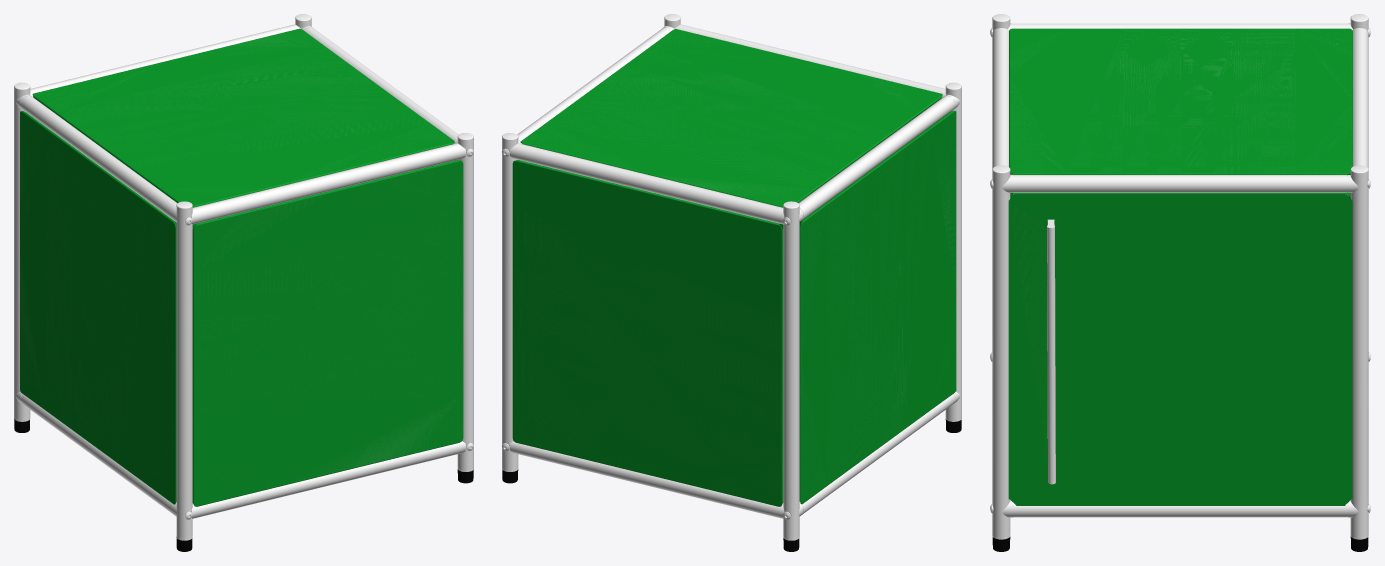
File: 40x40x40-2-4-green.glb
3 renders of one model, left to right at view 1: azimuth 30°, elevation 25°; view 2: azimuth 150°, elevation 25°; view 3: azimuth 270°, elevation 25°, orthographic. The views are drawn at different scales.
Visible parts, largest first — view 1: 直角鐵板-40x40-2 - 零件, 直角鐵板-40x40-4 - 零件, 直角鐵板-40x40-5 - 零件, 鐵管-1層-40-正常腳-32mm-5 - 零件, 消水孔鐵管-40深-2 - 零件, 鐵管-1層-40-正常腳-32mm-4 - 零件, 消水孔鐵管-40深-1 - 零件, 反-鐵管-40-354..4-18 - 零件, 鏡射鐵管-1層-40-正常腳-32mm-2 - 零件, 反-鐵管-40-354..4-15 - 零件, 鏡射消水孔鐵管-40深-2 - 零件, 反-鐵管-40-354..4-17 - 零件; view 2: object 43, 直角鐵板-40x40-4 - 零件, 直角鐵板-40x40-5 - 零件, 鏡射鐵管-1層-40-正常腳-32mm-2 - 零件, 鏡射消水孔鐵管-40深-2 - 零件, 鏡射鐵管-1層-40-正常腳-32mm-1 - 零件, 鏡射消水孔鐵管-40深-1 - 零件, 反-鐵管-40-354..4-18 - 零件, 鐵管-1層-40-正常腳-32mm-5 - 零件, 消水孔鐵管-40深-2 - 零件, 反-鐵管-40-354..4-15 - 零件, 反-鐵管-40-354..4-17 - 零件; view 3: object 25, 直角鐵板-40x40-5 - 零件, 鐵管-1層-40-正常腳-32mm-4 - 零件, 鏡射鐵管-1層-40-正常腳-32mm-1 - 零件, 反-鐵管-40-354..4-17 - 零件, 反-鐵管-40-354..4-1 - 零件, 消水孔鐵管-40深-2 - 零件, 鏡射消水孔鐵管-40深-2 - 零件, 反-鐵管-40-354..4-18 - 零件.
Boxes of the visible parts, box(x1,y1,x2,y2) form: 直角鐵板-40x40-2 - 零件: box(192, 160, 463, 506); 直角鐵板-40x40-4 - 零件: box(20, 111, 176, 504); 直角鐵板-40x40-5 - 零件: box(32, 28, 454, 207); 鐵管-1層-40-正常腳-32mm-5 - 零件: box(176, 207, 192, 539); 消水孔鐵管-40深-2 - 零件: box(191, 143, 465, 224); 鐵管-1層-40-正常腳-32mm-4 - 零件: box(457, 138, 473, 470); 消水孔鐵管-40深-1 - 零件: box(191, 441, 465, 518); 反-鐵管-40-354..4-18 - 零件: box(20, 96, 177, 219); 鏡射鐵管-1層-40-正常腳-32mm-2 - 零件: box(14, 88, 30, 420); 反-鐵管-40-354..4-15 - 零件: box(20, 394, 173, 513); 鏡射消水孔鐵管-40深-2 - 零件: box(30, 24, 300, 97); 反-鐵管-40-354..4-17 - 零件: box(304, 27, 458, 144); object 43: box(512, 160, 783, 506); 直角鐵板-40x40-4 - 零件: box(799, 110, 956, 504); 直角鐵板-40x40-5 - 零件: box(520, 29, 942, 207); 鏡射鐵管-1層-40-正常腳-32mm-2 - 零件: box(783, 206, 799, 539); 鏡射消水孔鐵管-40深-2 - 零件: box(509, 143, 784, 224); 鏡射鐵管-1層-40-正常腳-32mm-1 - 零件: box(502, 138, 518, 470); 鏡射消水孔鐵管-40深-1 - 零件: box(509, 441, 784, 518); 反-鐵管-40-354..4-18 - 零件: box(798, 96, 955, 219); 鐵管-1層-40-正常腳-32mm-5 - 零件: box(945, 88, 961, 420); 消水孔鐵管-40深-2 - 零件: box(675, 24, 945, 98); 反-鐵管-40-354..4-15 - 零件: box(799, 394, 955, 513); 反-鐵管-40-354..4-17 - 零件: box(517, 27, 671, 141); object 25: box(1008, 192, 1352, 505); 直角鐵板-40x40-5 - 零件: box(1009, 28, 1352, 174); 鐵管-1層-40-正常腳-32mm-4 - 零件: box(992, 171, 1010, 537); 鏡射鐵管-1層-40-正常腳-32mm-1 - 零件: box(1350, 171, 1368, 537); 反-鐵管-40-354..4-17 - 零件: box(1013, 175, 1347, 192); 反-鐵管-40-354..4-1 - 零件: box(1013, 503, 1347, 517); 消水孔鐵管-40深-2 - 零件: box(992, 28, 1008, 168); 鏡射消水孔鐵管-40深-2 - 零件: box(1352, 28, 1368, 180); 反-鐵管-40-354..4-18 - 零件: box(1013, 23, 1347, 28).
Size of the model in its own units: 0.4202 by 0.4452 by 0.4035.
